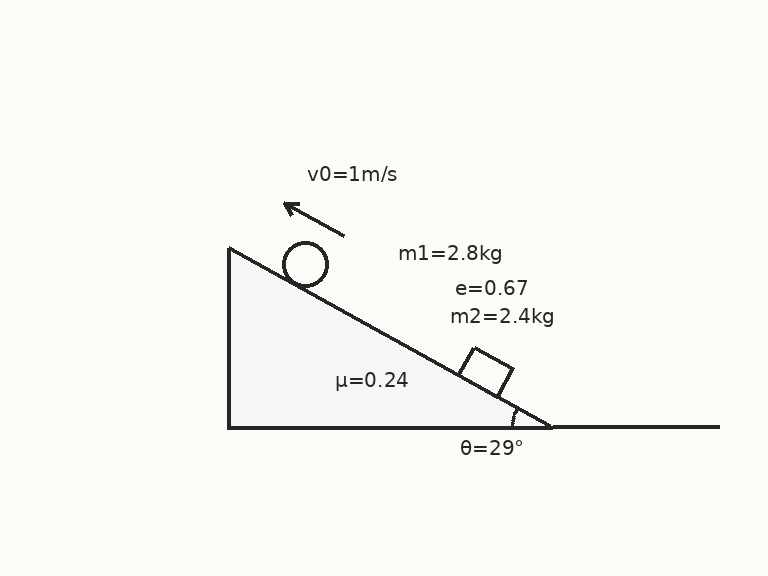ball: (280, 239, 330, 289)
block: (456, 345, 514, 398)
ramp: (226, 245, 554, 429)
